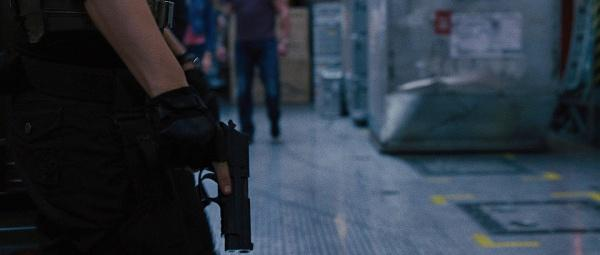Gun: (200, 120, 254, 255)
